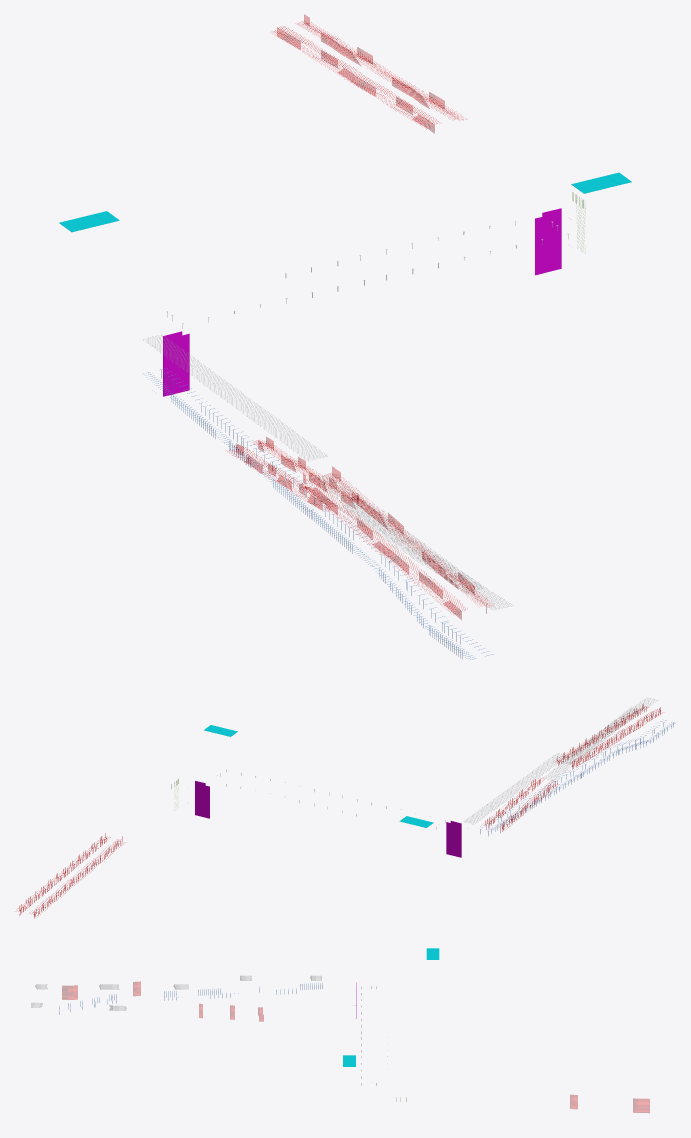
3 views of the same model, one above another, from view 1: azimuth 30°, elevation 25°; view 2: azimuth 150°, elevation 25°; view 3: azimuth 270°, elevation 25° (orthographic). The views are drawn at different scales.
Parts seen in each view (by area): view 1: 1IEzkf000_RJ4pDpasE34o, 1IEzkf000_QJ4pDpasE34m, 1IEefD0006tp4pDparE38p, 1IEefD00078Z4pDparE3Kp, 1IEefD0007334pDparE3Km, 1IEefD0006zp4pDparE38t, 1IEefD0006Rp4pDparDpWp, 1IEefD0006QZ4pDparDpWn; view 2: 1IEzkf000_RJ4pDpasE34o, 1IEzkf000_QJ4pDpasE34m, 1IEefD0007334pDparE3Km, 1IEefD0006tp4pDparE38p, 1IEefD0006zp4pDparE38t, 1IEefD00078Z4pDparE3Kp; view 3: no part large enough to name.
Part boxes in pixels (bbox=[...]): 1IEzkf000_RJ4pDpasE34o: bbox=[163, 331, 189, 396]; 1IEzkf000_QJ4pDpasE34m: bbox=[535, 208, 561, 275]; 1IEefD0006tp4pDparE38p: bbox=[297, 473, 465, 619]; 1IEefD00078Z4pDparE3Kp: bbox=[270, 26, 441, 133]; 1IEefD0007334pDparE3Km: bbox=[298, 14, 466, 119]; 1IEefD0006zp4pDparE38t: bbox=[326, 466, 491, 613]; 1IEefD0006Rp4pDparDpWp: bbox=[143, 334, 327, 461]; 1IEefD0006QZ4pDparDpWn: bbox=[310, 474, 485, 593]; 1IEzkf000_RJ4pDpasE34o: bbox=[446, 821, 461, 857]; 1IEzkf000_QJ4pDpasE34m: bbox=[195, 781, 209, 818]; 1IEefD0007334pDparE3Km: bbox=[18, 833, 110, 915]; 1IEefD0006tp4pDparE38p: bbox=[570, 707, 660, 769]; 1IEefD0006zp4pDparE38t: bbox=[556, 703, 647, 765]; 1IEefD00078Z4pDparE3Kp: bbox=[29, 836, 122, 918].
Size of the model in its own units: 58.63 by 14.6 by 133.
